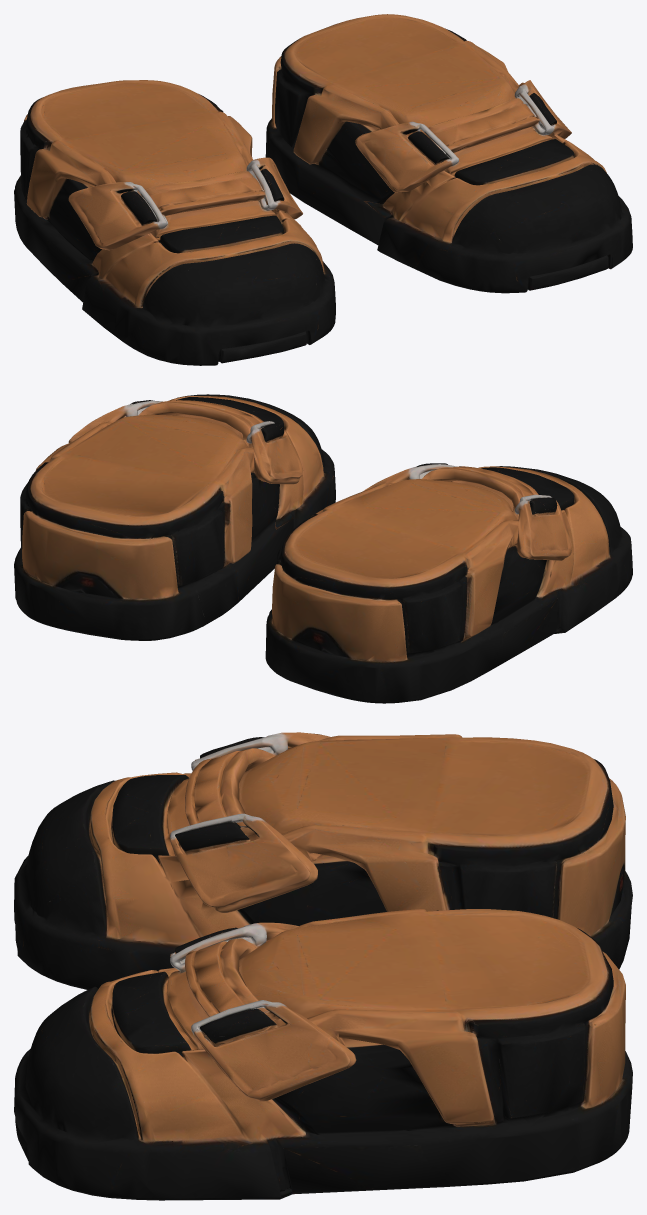
File: Shoes.glb
The picture shows the model from 3 angles, top to bottom: view 1: azimuth 30°, elevation 25°; view 2: azimuth 150°, elevation 25°; view 3: azimuth 270°, elevation 25°; orthographic projection. The views are drawn at different scales.
Visible parts, largest first — view 1: Shoes_low; view 2: Shoes_low; view 3: Shoes_low.
Boxes of the visible parts, x1,y1,x2,y2 form: Shoes_low: (14,14,632,365); Shoes_low: (14,394,632,703); Shoes_low: (14,732,632,1200).
Bounding box in the file's own units: 0.5005 × 0.1174 × 0.3908.
1 material, 1 textured.
